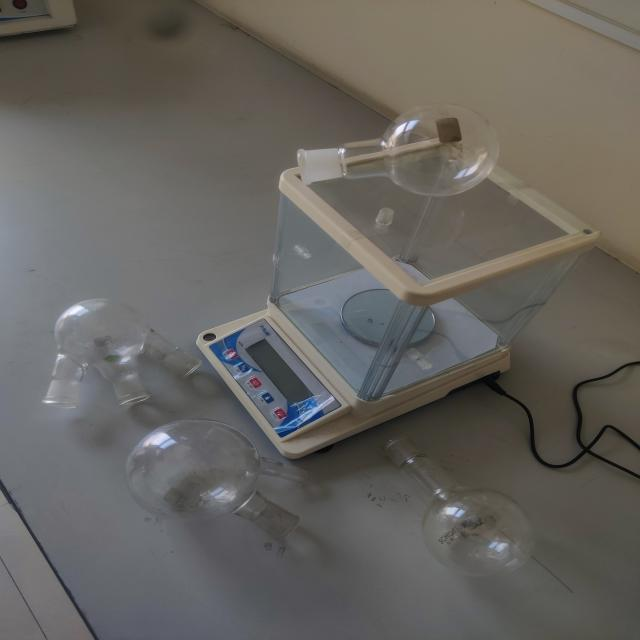Round_Bottom_Flask_Borosilicate_Glass_1_Neck: (276, 76, 524, 221), (368, 412, 556, 596)
Round_Bottom_Flask_Borosilicate_Glass_2_Neck: (105, 389, 348, 573)
Round_Bottom_Flask_Borosilicate_Glass_3_Neck: (18, 274, 232, 428)
